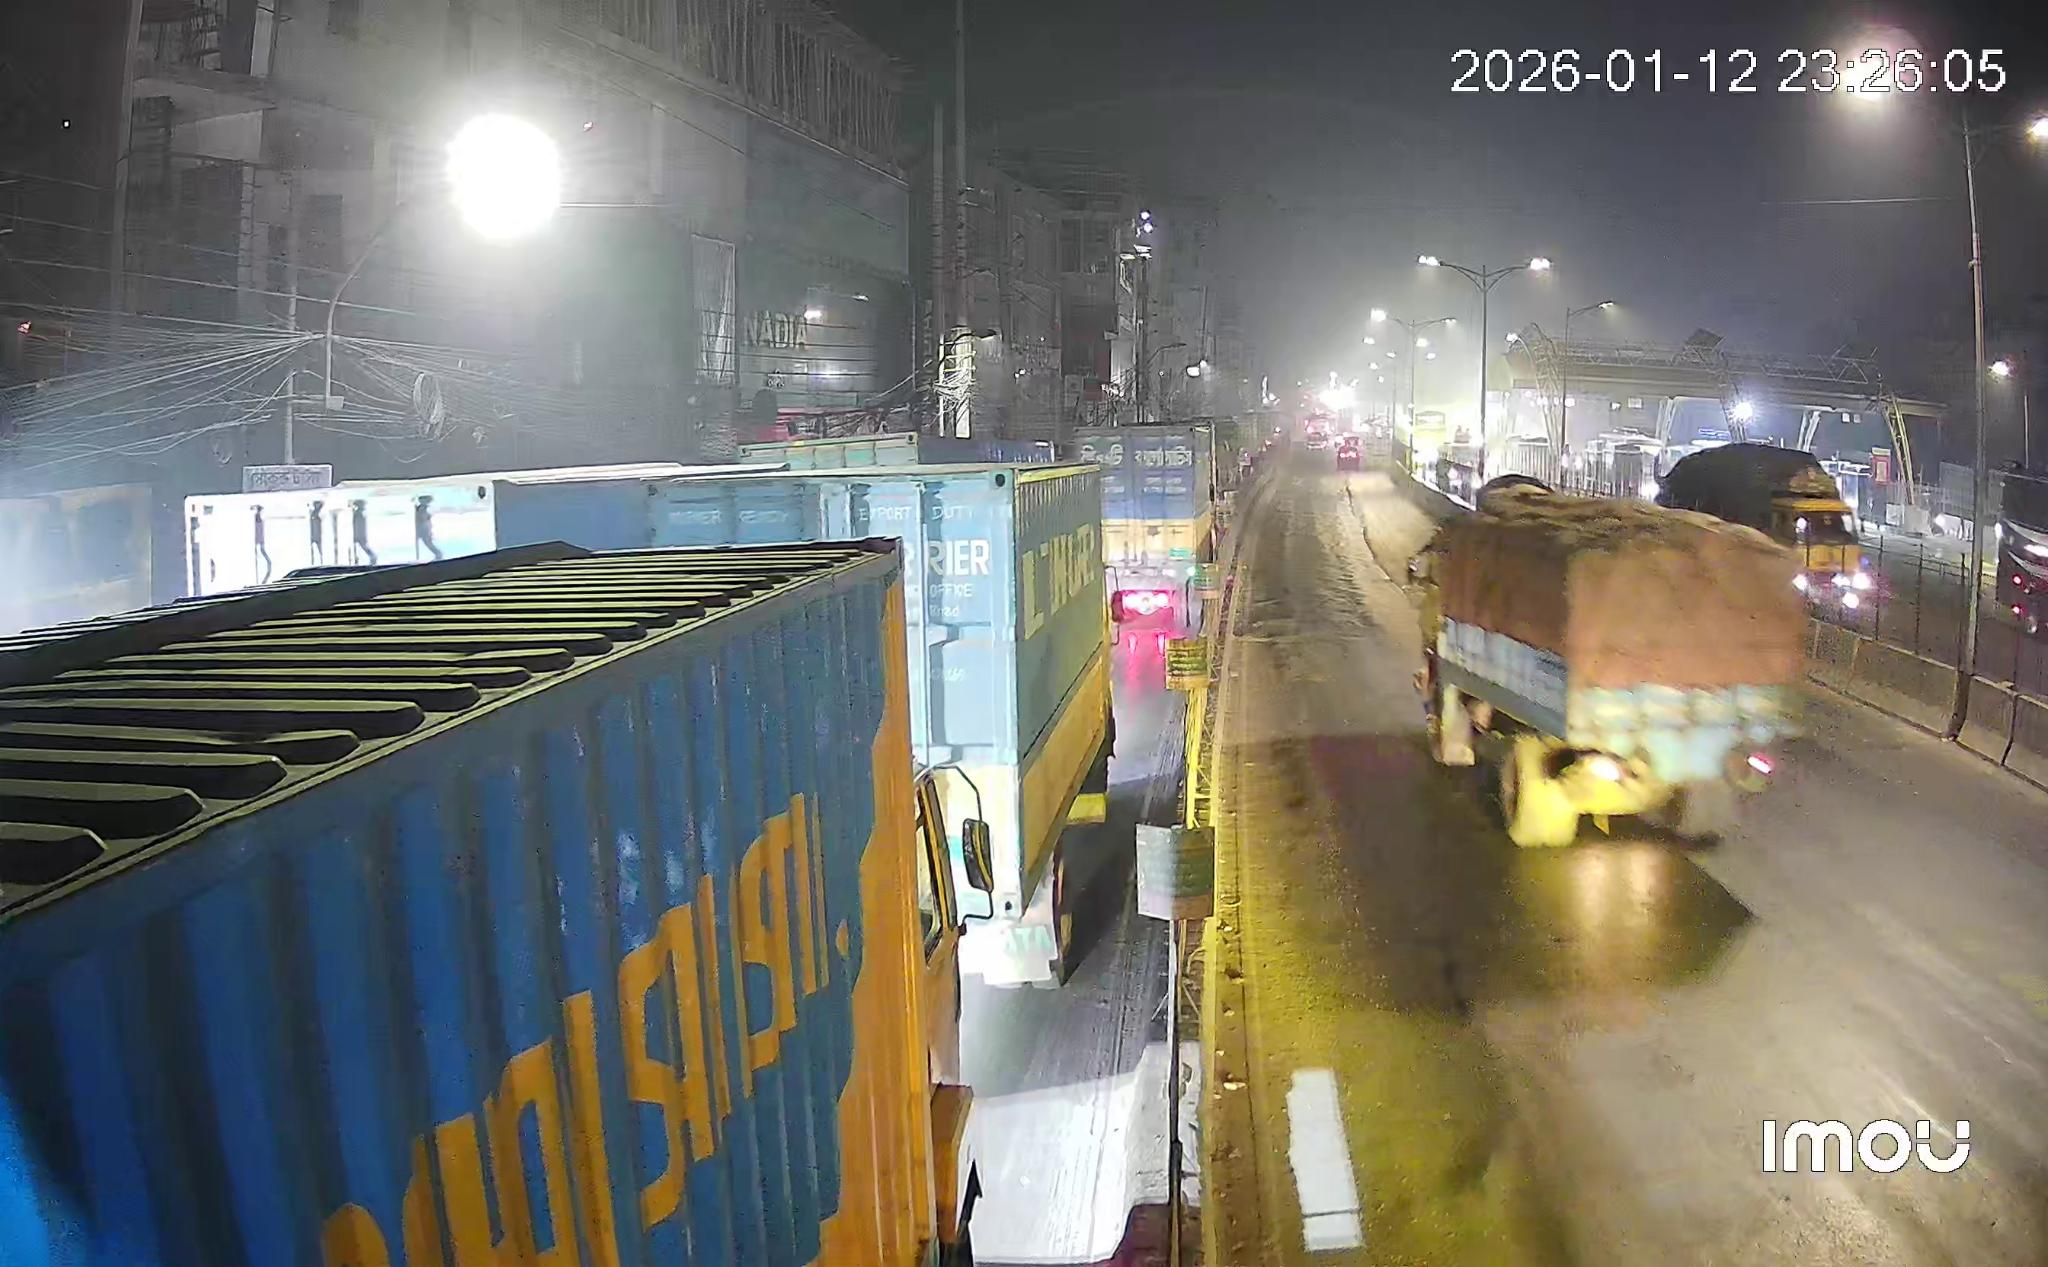Truck: (0, 537, 992, 1267), (642, 462, 1112, 985), (1412, 475, 1805, 846), (1656, 443, 1875, 609), (1075, 418, 1224, 620)
